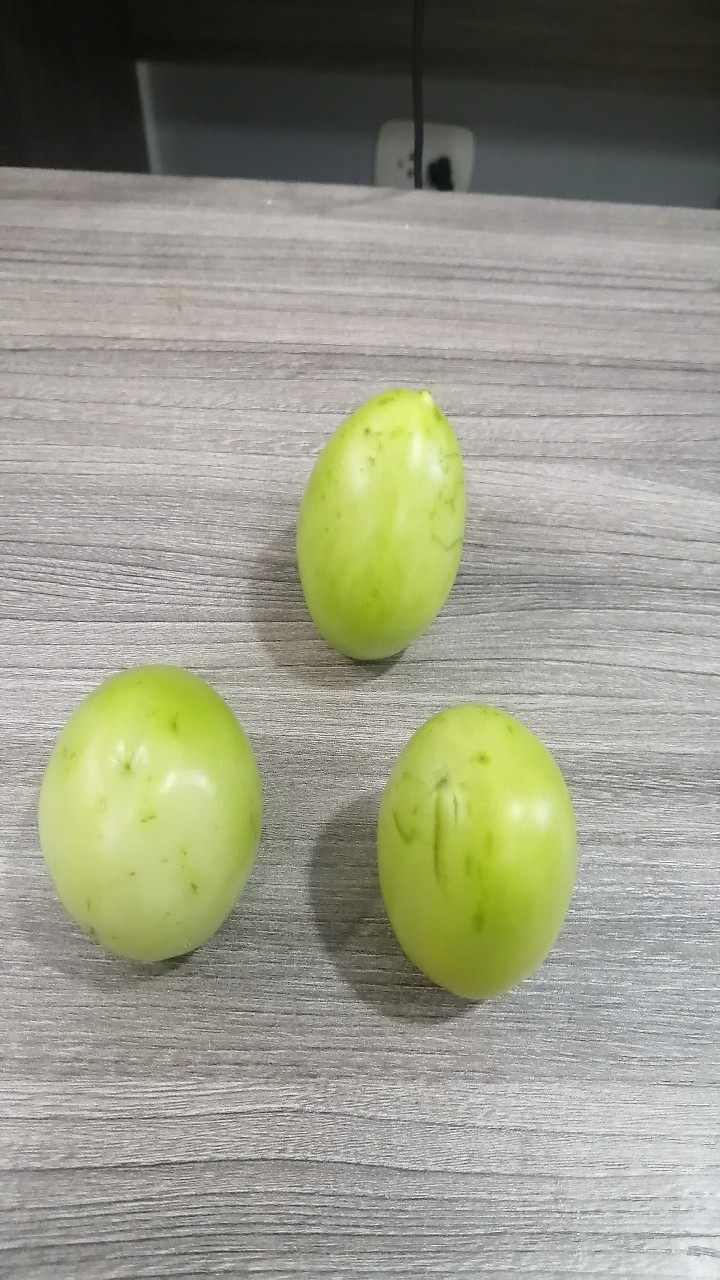tomateVerde: (352, 685, 603, 1031), (23, 635, 268, 974), (264, 375, 500, 674)
